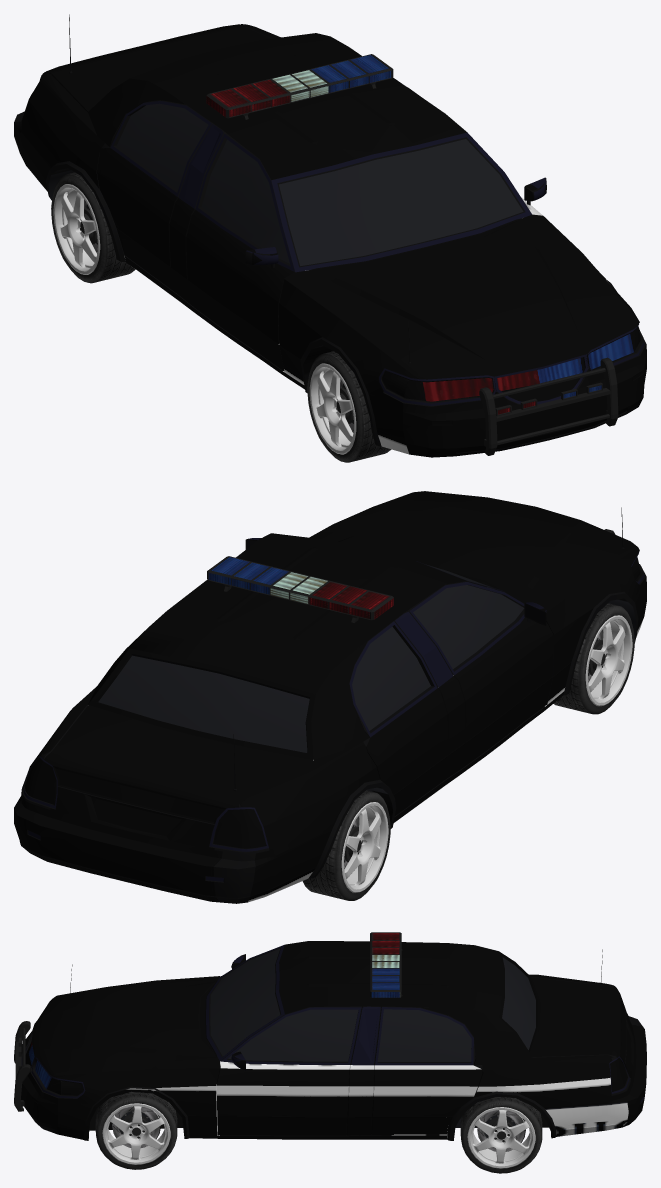
The model's file is PoliceCar10.FBX.
3 renders of one model, top to bottom at view 1: azimuth 30°, elevation 25°; view 2: azimuth 150°, elevation 25°; view 3: azimuth 270°, elevation 25°, orthographic. The views are drawn at different scales.
Parts seen in each view (by area): view 1: Body, FR, BR; view 2: Body, BR, FR; view 3: Body, FL, BL.
Part boxes in pixels (x1=…): Body: x1=14, y1=14, x2=646, y2=457; FR: x1=307, y1=351, x2=391, y2=462; BR: x1=51, y1=172, x2=135, y2=283; Body: x1=14, y1=491, x2=646, y2=903; BR: x1=302, y1=790, x2=390, y2=900; FR: x1=553, y1=603, x2=634, y2=714; Body: x1=14, y1=932, x2=646, y2=1140; FL: x1=95, y1=1091, x2=177, y2=1169; BL: x1=460, y1=1097, x2=542, y2=1173.
Size of the model in its own units: 18.78 by 13.24 by 46.95.
